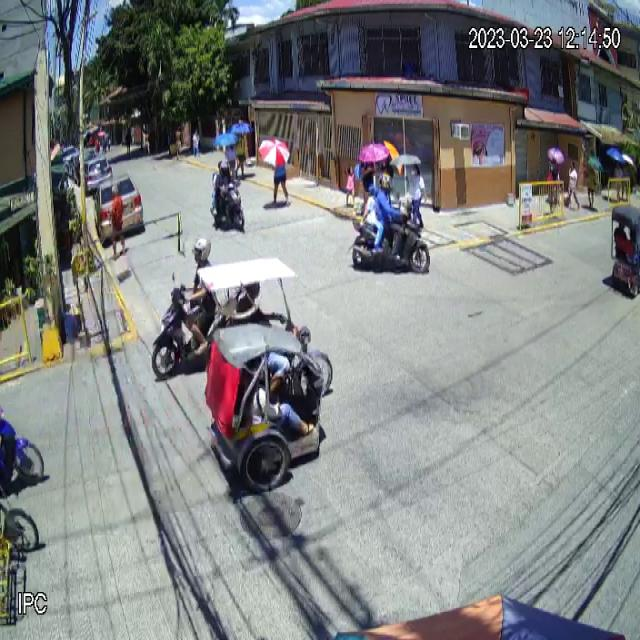Motorcycle: (350, 206, 430, 275), (210, 163, 246, 236)
Tricycle: (197, 257, 334, 490)
